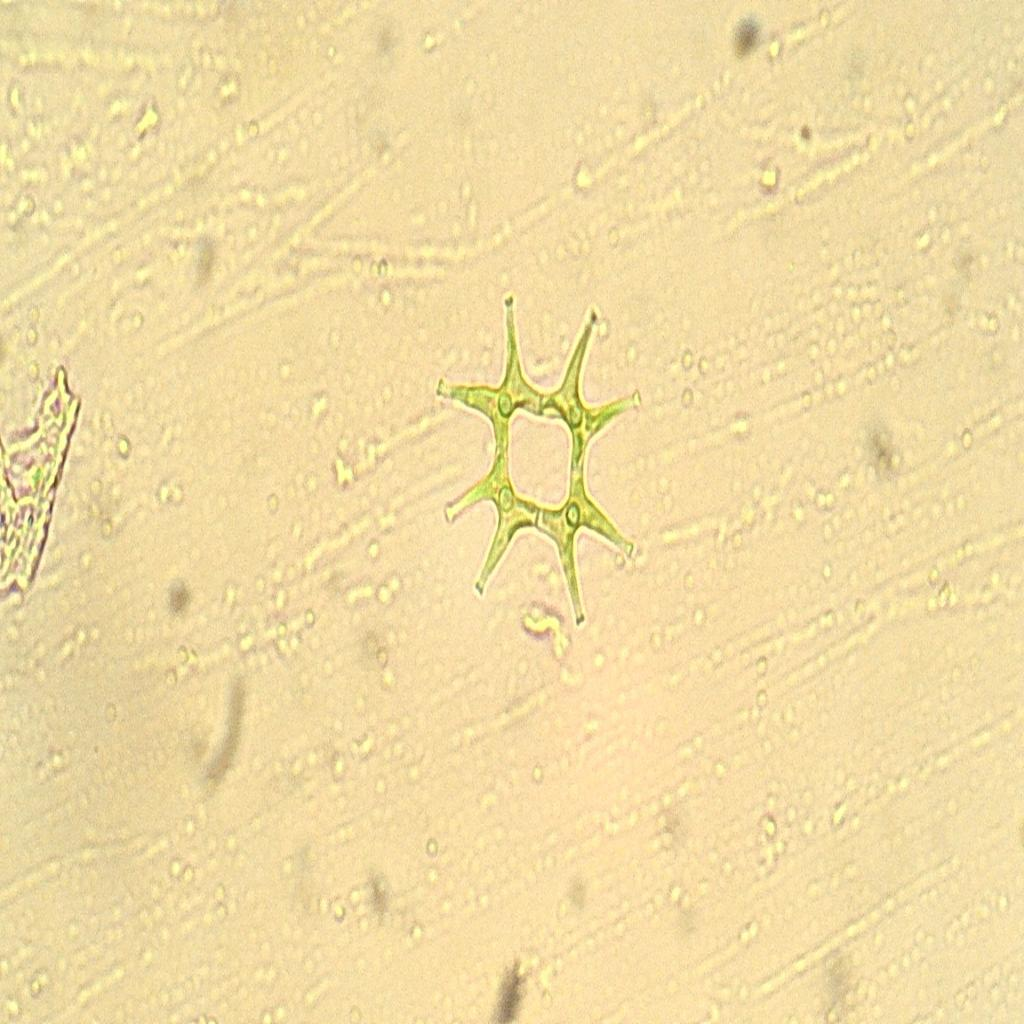Pediastrum_CO: (417, 260, 664, 663)
